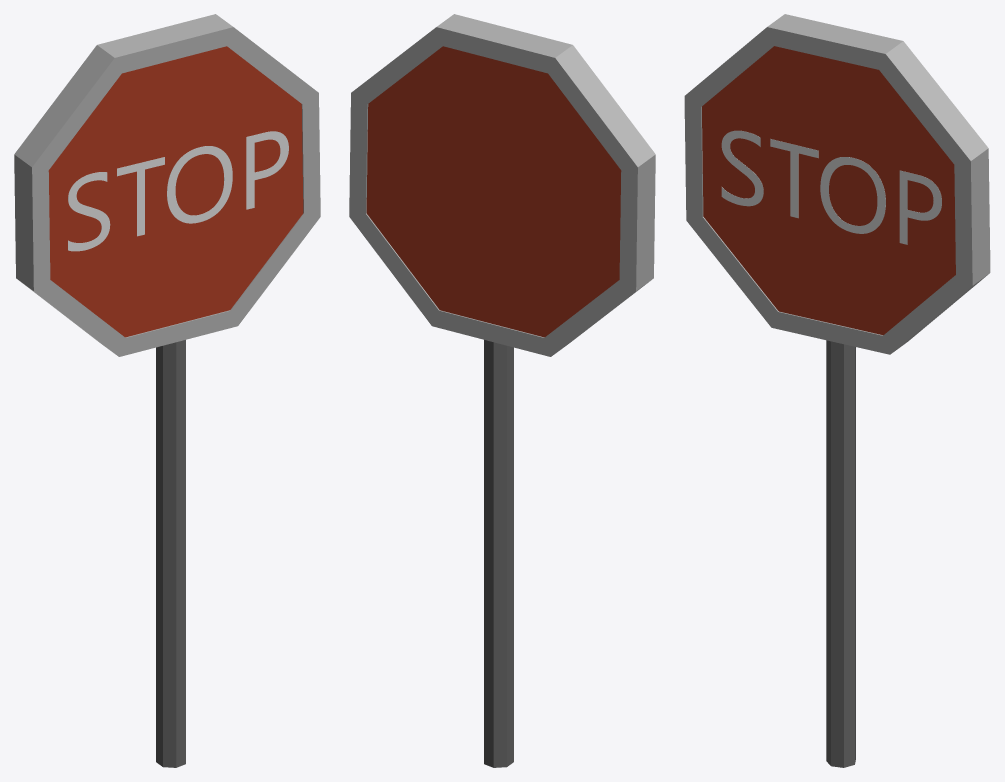
The model's file is Schild II stop.fbx.
The picture shows the model from 3 angles, left to right: view 1: azimuth 30°, elevation 25°; view 2: azimuth 150°, elevation 25°; view 3: azimuth 330°, elevation 25°; orthographic projection.
Visible parts, largest first — view 1: Zylinder, Zylinder_2, Deckfläche_1_3, Deckfläche_1_4, Deckfläche_1, Deckfläche_1_2; view 2: Zylinder, Zylinder_2; view 3: Zylinder, Zylinder_2, Deckfläche_1_3, Deckfläche_1_4, Deckfläche_1, Deckfläche_1_2.
Part boxes in pixels (x1,y1,x2,y2): Zylinder: (14,14,320,356); Zylinder_2: (156,340,185,767); Deckfläche_1_3: (167,146,232,223); Deckfläche_1_4: (246,131,288,209); Deckfläche_1: (68,172,110,251); Deckfläche_1_2: (117,157,164,236); Zylinder: (349,14,655,356); Zylinder_2: (484,340,513,767); Zylinder: (684,14,990,354); Zylinder_2: (826,340,855,767); Deckfläche_1_3: (820,157,885,233); Deckfläche_1_4: (899,170,941,244); Deckfläche_1: (721,130,763,206); Deckfläche_1_2: (770,139,818,217).
Size of the model in its own units: 108 by 259 by 11.52.
